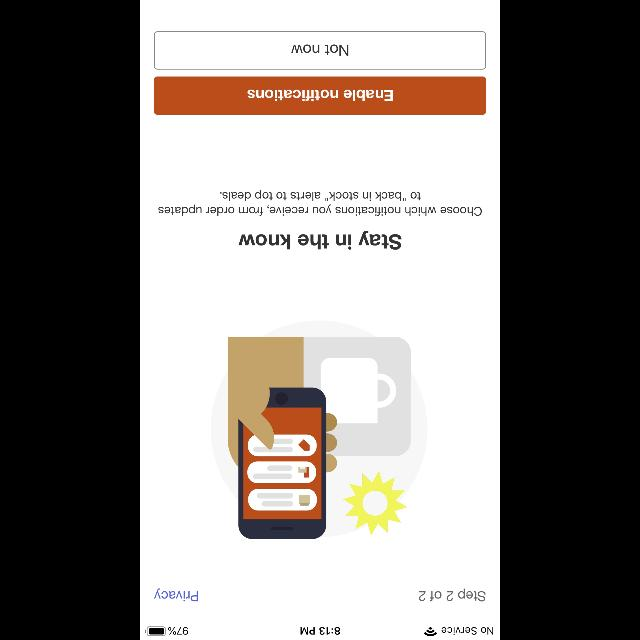image: (210, 321, 428, 539)
text: (158, 190, 482, 216), (238, 230, 402, 250), (419, 588, 485, 602), (154, 588, 198, 602)
textbutton: (154, 77, 486, 115), (154, 31, 486, 69)
uppertaskbar: (140, 626, 500, 638)
